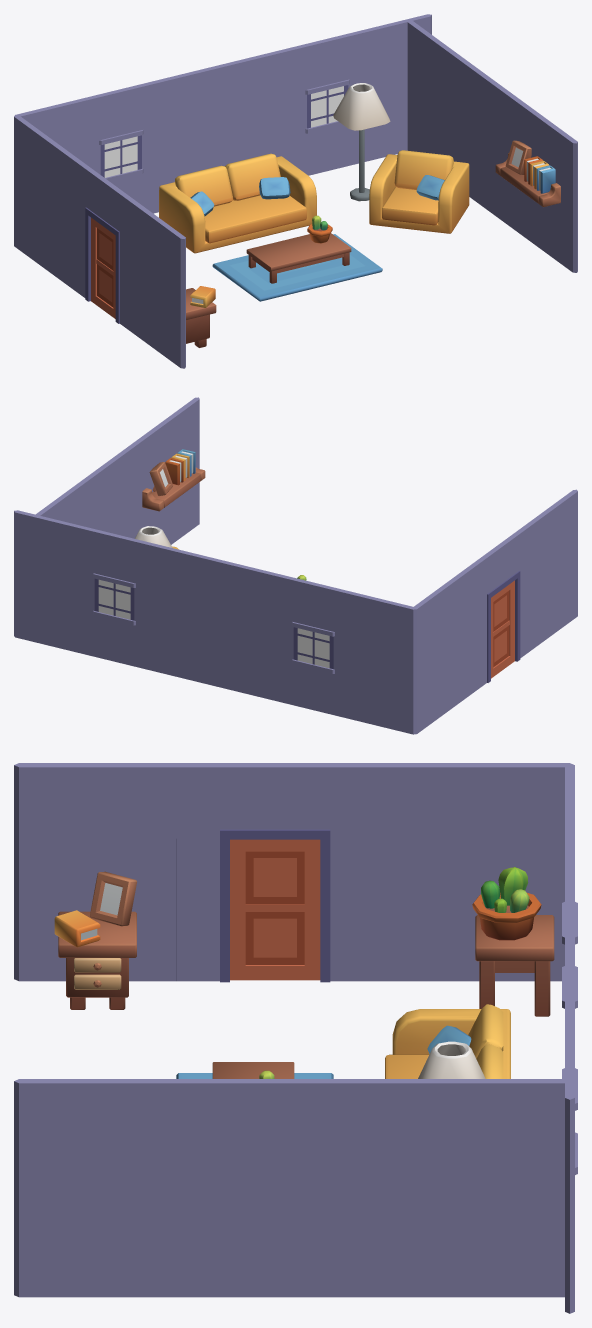
Rendered from room.fbx.
The picture shows the model from 3 angles, top to bottom: view 1: azimuth 30°, elevation 25°; view 2: azimuth 150°, elevation 25°; view 3: azimuth 270°, elevation 25°; orthographic projection. The views are drawn at different scales.
Visible parts, largest first — view 1: wall (×61), couch_pillows, armchair_pillows, doorway_doorSolid, rug_rectangle_stripes_B, wall_glassSections (×2), table_medium_long, shelf_B_large_decorated, lamp_standing, cabinet_small_decorated, cactus_small_B; view 2: wall (×55), doorway_doorSolid, wall_glassSections (×2), shelf_B_large_decorated, lamp_standing; view 3: wall (×41), doorway_doorSolid, cabinet_small_decorated, couch_pillows, table_small, cactus_medium_A, lamp_standing, table_medium_long.
Boxes of the visible parts, x1,y1,x2,y2 form: wall (×61): [14, 14, 577, 368]; couch_pillows: [159, 153, 316, 253]; armchair_pillows: [369, 150, 469, 233]; doorway_doorSolid: [85, 205, 132, 332]; rug_rectangle_stripes_B: [212, 234, 382, 301]; wall_glassSections (×2): [99, 79, 349, 181]; table_medium_long: [246, 233, 351, 283]; shelf_B_large_decorated: [495, 140, 560, 207]; lamp_standing: [333, 83, 390, 201]; cabinet_small_decorated: [186, 286, 216, 347]; cactus_small_B: [307, 215, 332, 243]; wall (×55): [14, 397, 577, 734]; doorway_doorSolid: [486, 546, 531, 683]; wall_glassSections (×2): [93, 573, 334, 673]; shelf_B_large_decorated: [142, 449, 205, 511]; lamp_standing: [135, 526, 172, 547]; wall (×41): [14, 763, 574, 1313]; doorway_doorSolid: [176, 803, 373, 982]; cabinet_small_decorated: [54, 871, 136, 1009]; couch_pillows: [385, 1004, 510, 1078]; table_small: [475, 915, 554, 1016]; cactus_medium_A: [472, 867, 541, 940]; lamp_standing: [418, 1041, 485, 1078]; table_medium_long: [212, 1062, 294, 1078].
Bounding box in the file's own units: 102 × 30 × 71.65.
6 materials, 1 textured.
